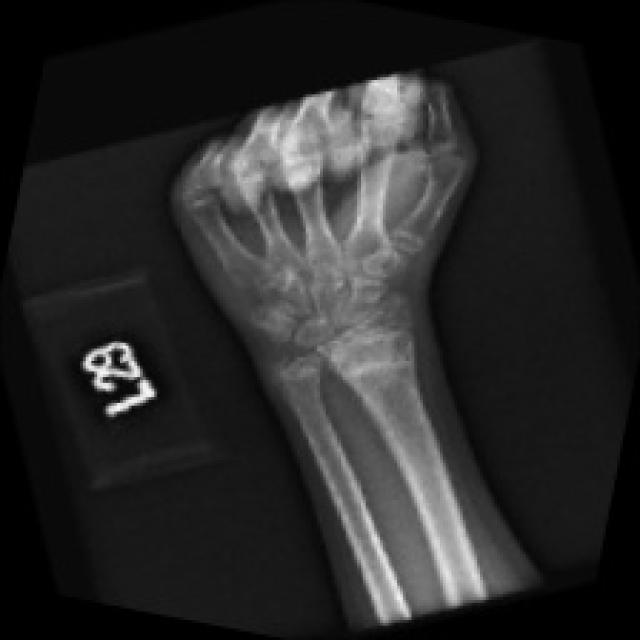fracture: (359, 200, 464, 286)
